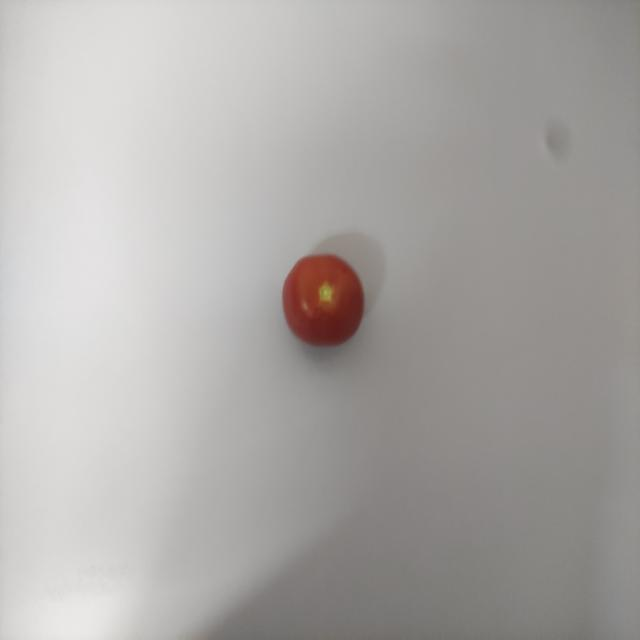kirmizi: (277, 252, 379, 344)
